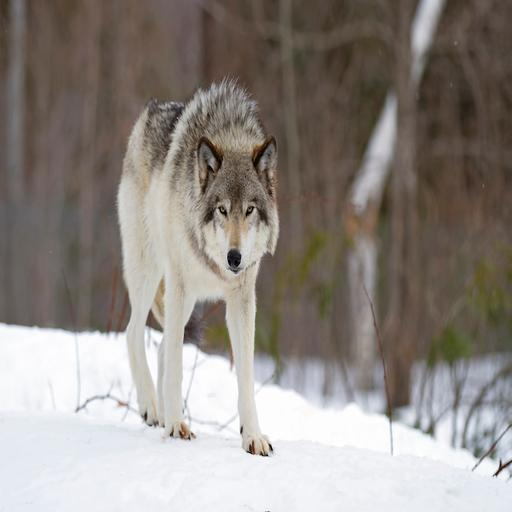Wolf: (118, 73, 284, 460)
